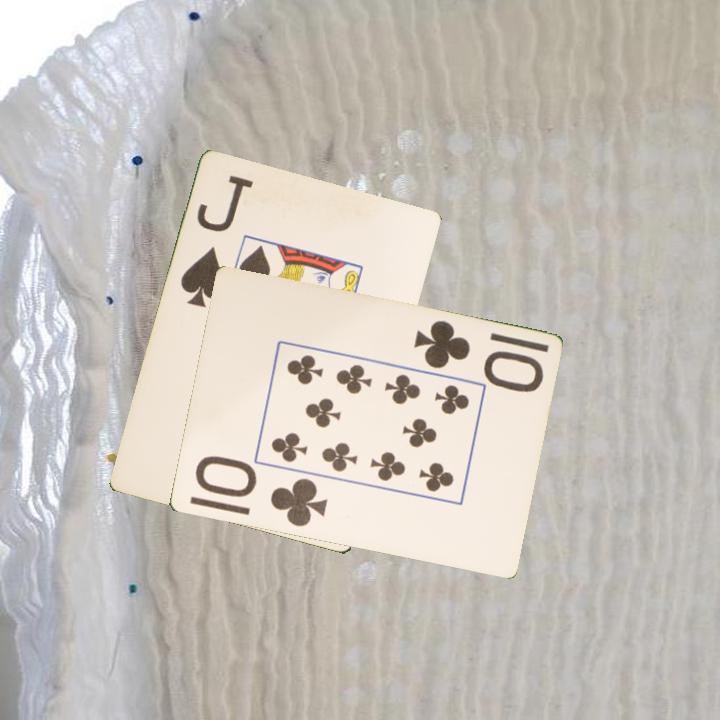10c: (191, 454, 330, 530), (410, 317, 546, 392)
Js: (177, 172, 256, 312)
